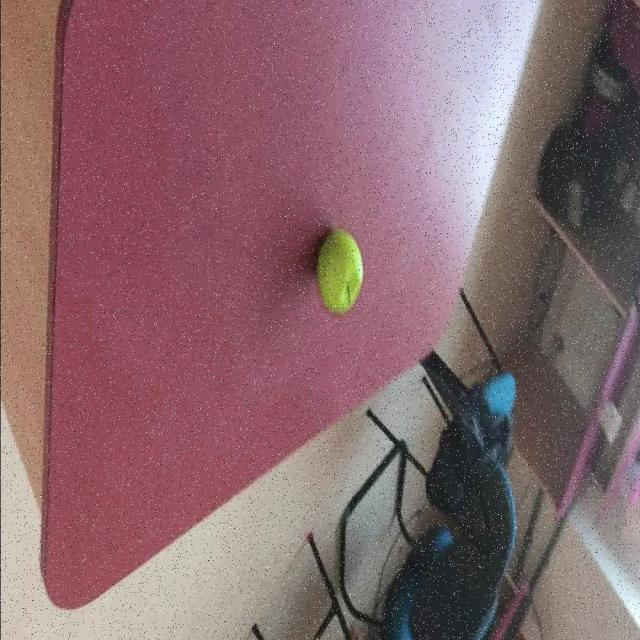Apple: (316, 229, 364, 317)
